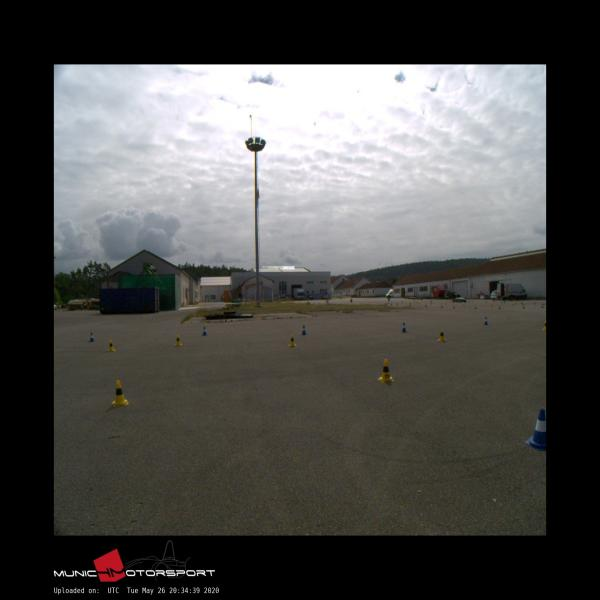blue_cone: (524, 407, 546, 451), (401, 322, 407, 331), (201, 327, 207, 335), (89, 332, 94, 341), (301, 325, 306, 334), (483, 316, 488, 324)
yellow_cone: (112, 380, 128, 408), (378, 360, 393, 382), (288, 334, 297, 347), (437, 329, 446, 341), (108, 338, 114, 351), (175, 334, 181, 345), (542, 320, 546, 330)
